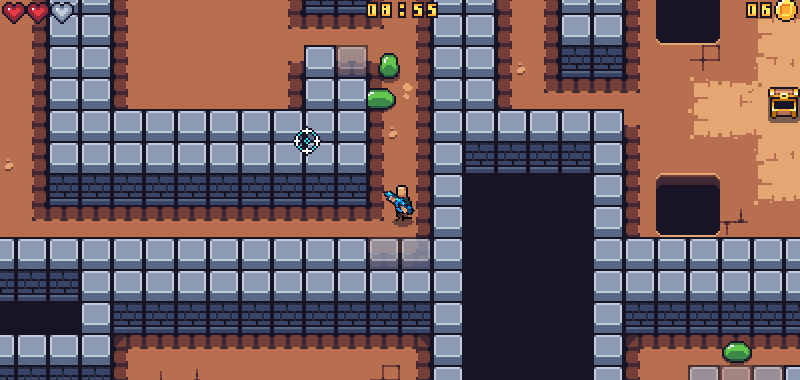enemy_slug: (720, 336, 754, 364), (360, 87, 398, 110), (376, 50, 403, 80)
treasury_open: (766, 83, 800, 120)
